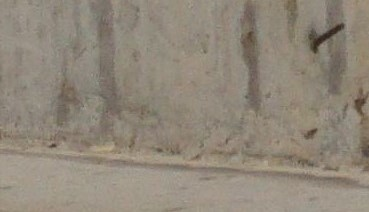Exposed reinforcement: (309, 22, 345, 54)
